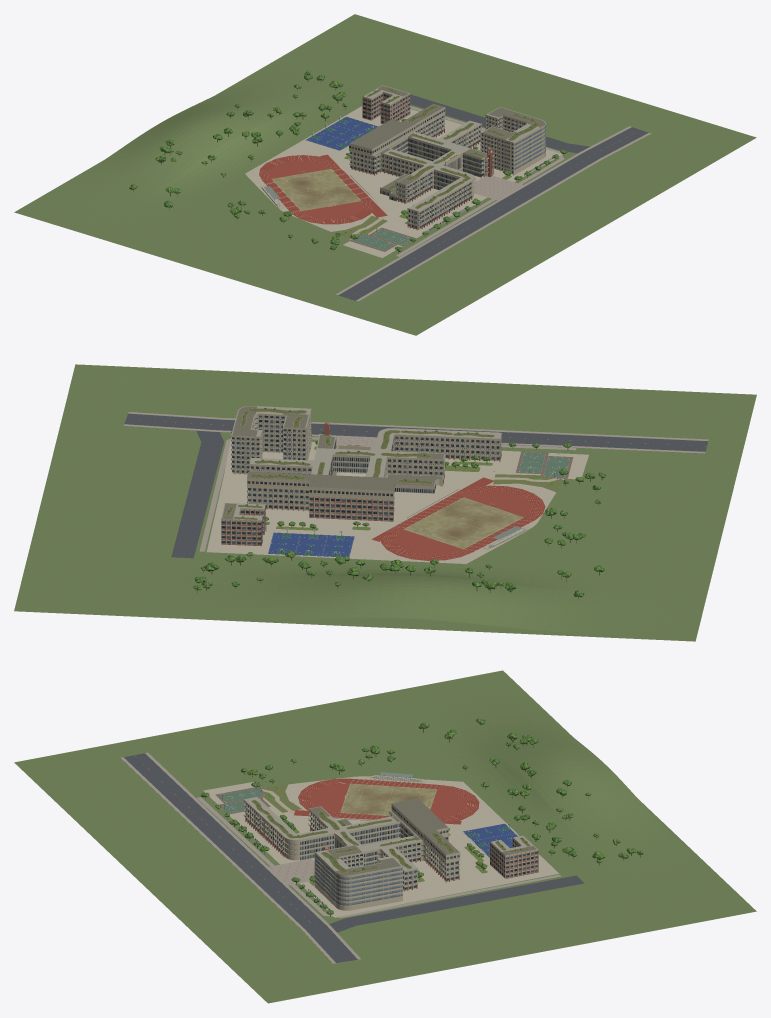
Rendered from campus.glb.
3 renders of one model, top to bottom at view 1: azimuth 30°, elevation 25°; view 2: azimuth 150°, elevation 25°; view 3: azimuth 270°, elevation 25°, orthographic. The views are drawn at different scales.
Parts seen in each view (by area): view 1: campus; view 2: campus; view 3: campus.
Part boxes in pixels (left/top/right/bottom): campus: left=14, top=14, right=756, bottom=335; campus: left=14, top=364, right=756, bottom=641; campus: left=14, top=670, right=756, bottom=1003.
Bounding box in the file's own units: 574 × 30.08 × 541.
52 materials, 25 textured.
